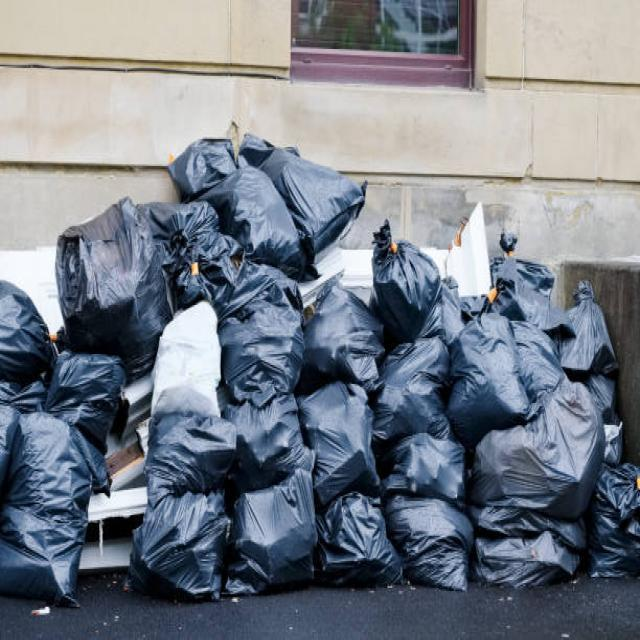garbage: (4, 122, 640, 614)
